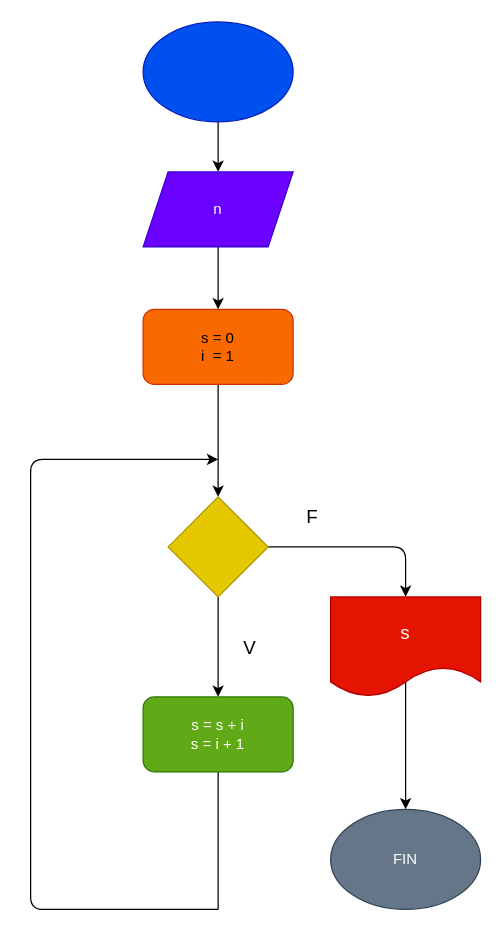
The diagram is 503 pixels wide and 941 high, and some of its shapes have lost their labels. Here are the shapes that lost their labels. From the top down, the centre of each, then its label:
(x=217, y=71): INICIO
(x=217, y=546): i < n
